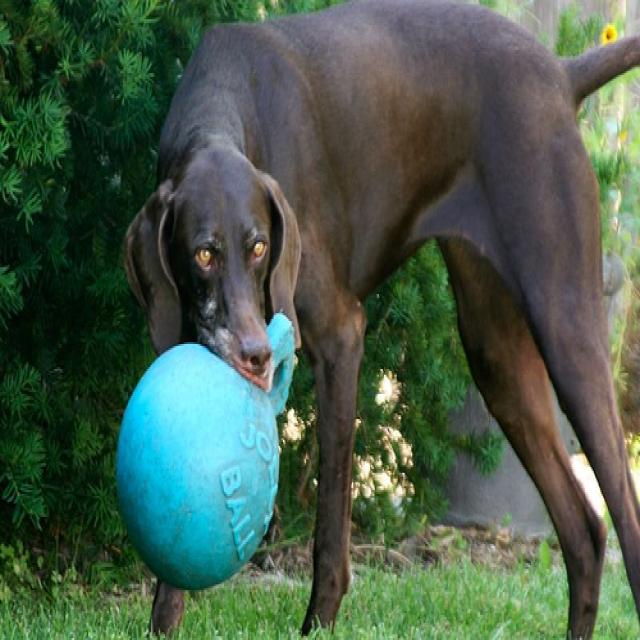dog: (122, 142, 300, 388)
